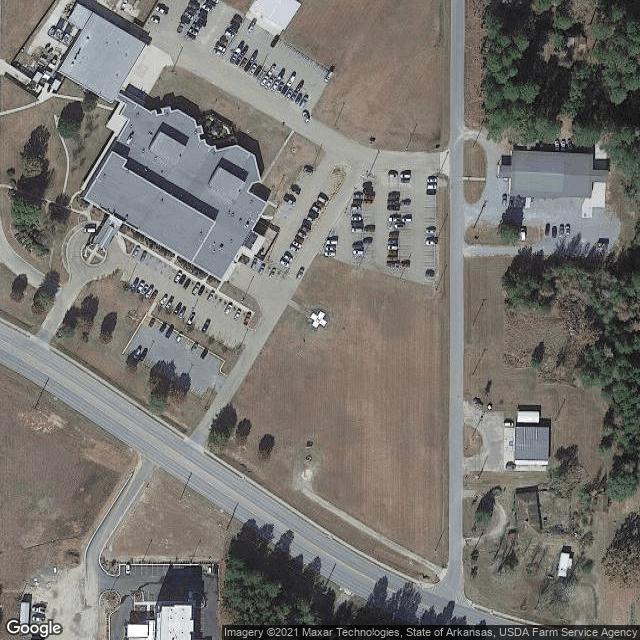Helipad: (303, 305, 332, 331)
